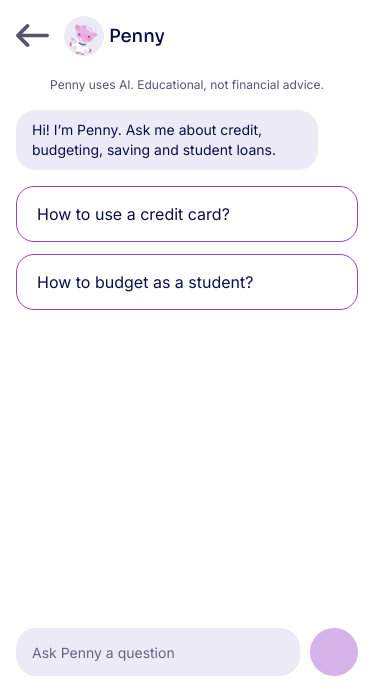
Test: PennyChat › sends a typed question and shows the reply
Type "Does preapproval hurt my score?" into the field labelled "Ask Penny" at (158, 652), box [16,628,300,676]
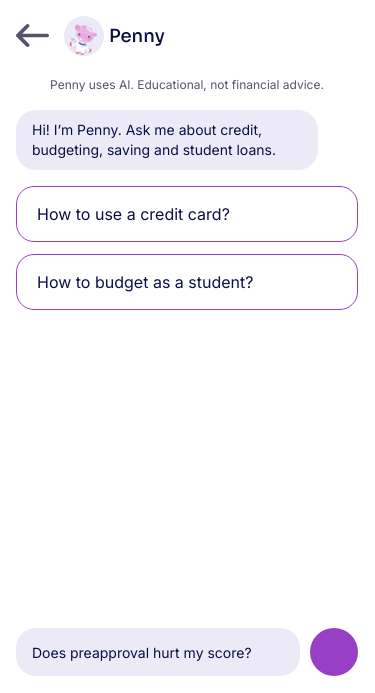
Click the button named "Send" at (334, 652), box [310,628,358,676]
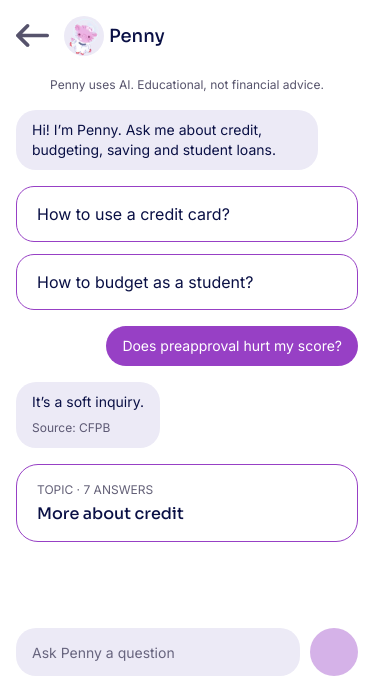
Expected: the element named "Penny" shows "It’s a soft inquiry.", [32,393,144,410]
